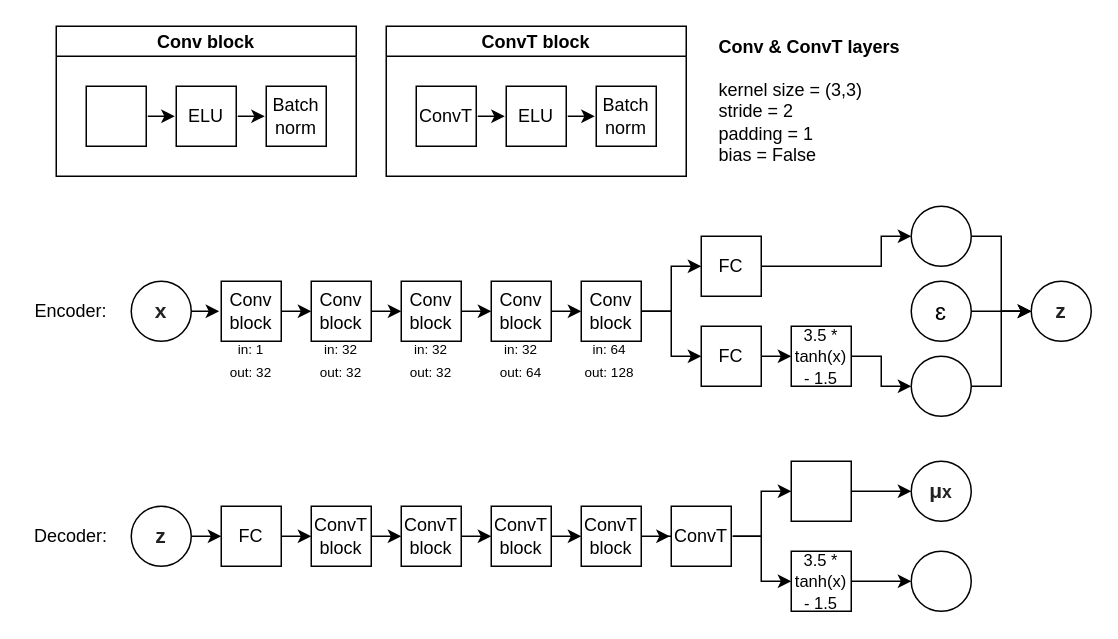
This 1118x639 diagram has some shape labels left out. Here are the shapes that lost their labels. From the top down, the centre of each, then its label:
At (x=115, y=115): "Conv".
At (x=940, y=235): "μ z".
At (x=940, y=385): "log σ z 2".
At (x=820, y=490): "sigmoid".
At (x=940, y=580): "log σ x 2".
